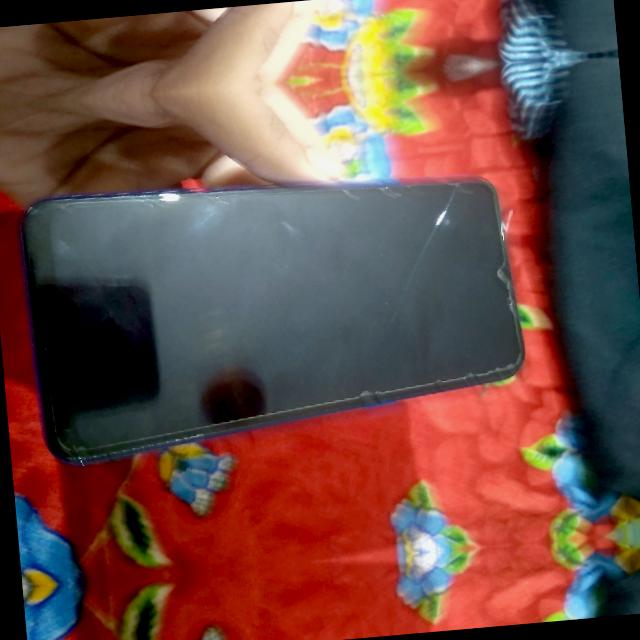phone_screen: (0, 148, 541, 444)
